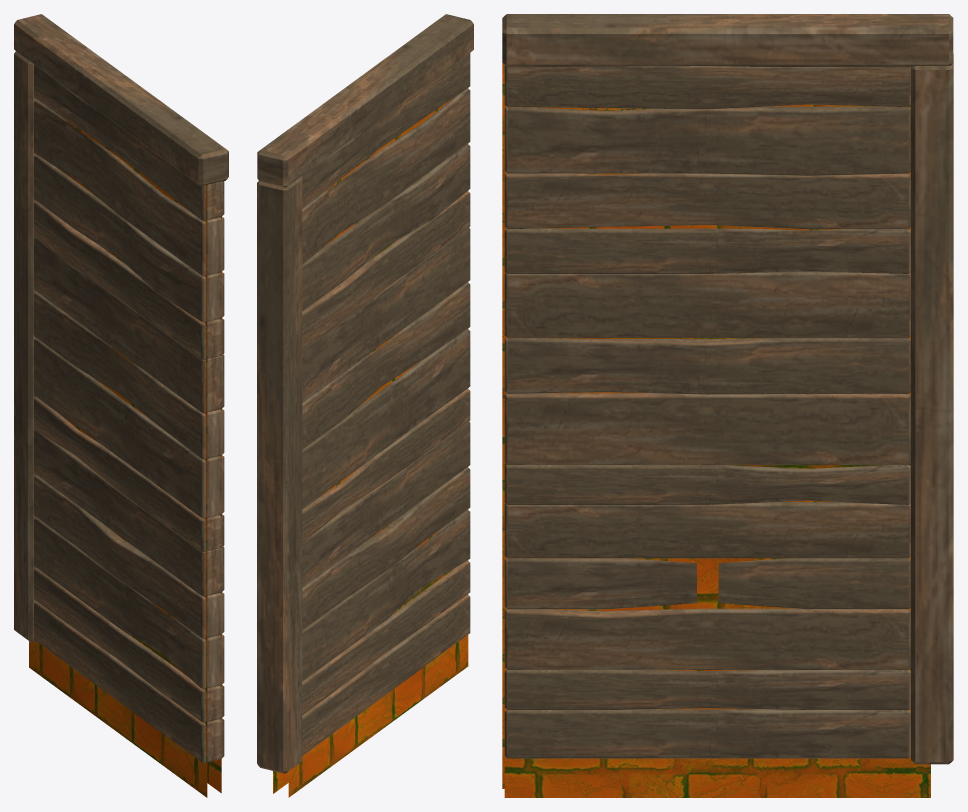
File: SM_wall_22.fbx
3 views of the same model, side by side, from view 1: azimuth 30°, elevation 25°; view 2: azimuth 150°, elevation 25°; view 3: azimuth 270°, elevation 25° (orthographic). The views are drawn at different scales.
Visible parts, largest first — view 1: SM_wall_22_LOD0; view 2: SM_wall_22_LOD0; view 3: SM_wall_22_LOD0.
Part boxes in pixels (<box>): SM_wall_22_LOD0: <box>14,14,228,797</box>; SM_wall_22_LOD0: <box>257,14,473,797</box>; SM_wall_22_LOD0: <box>502,14,953,797</box>.
Bounding box in the file's own units: 20.99 × 212 × 400.
2 materials, 2 textured.
